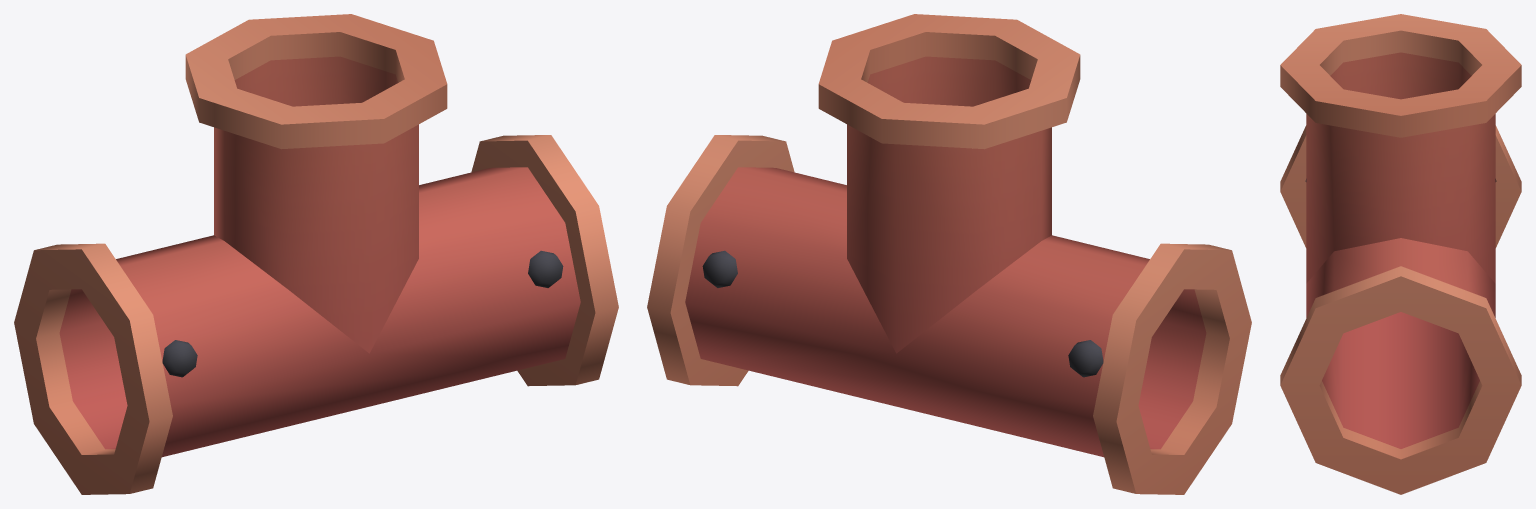
File: pipe-large-side.obj
The picture shows the model from 3 angles, left to right: view 1: azimuth 30°, elevation 25°; view 2: azimuth 150°, elevation 25°; view 3: azimuth 270°, elevation 25°; orthographic projection. The views are drawn at different scales.
Parts seen in each view (by area): view 1: pipe-large-side; view 2: pipe-large-side; view 3: pipe-large-side.
Boxes of the visible parts, box(x1,y1,x2,y2) form: pipe-large-side: box(14, 14, 618, 494); pipe-large-side: box(647, 14, 1251, 494); pipe-large-side: box(1280, 14, 1521, 494).
Size of the model in its own units: 2 by 1.5 by 1.
